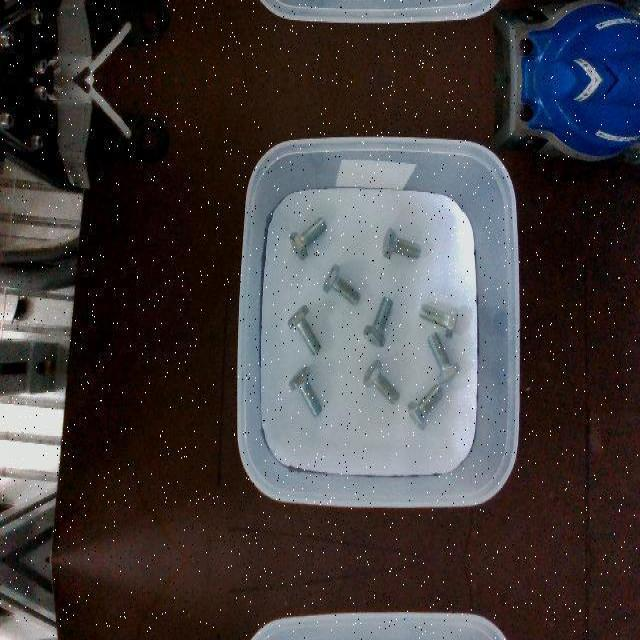screw: (288, 365, 322, 417), (426, 332, 460, 384), (363, 358, 400, 404), (408, 382, 445, 428), (287, 304, 321, 354), (289, 217, 327, 259), (322, 263, 360, 305), (363, 296, 393, 348), (419, 304, 460, 338), (382, 227, 422, 259)
